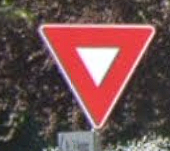cedeaza: (40, 24, 155, 129)
